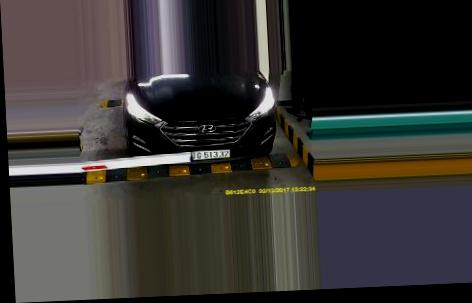License_Plate: (189, 148, 231, 162)
